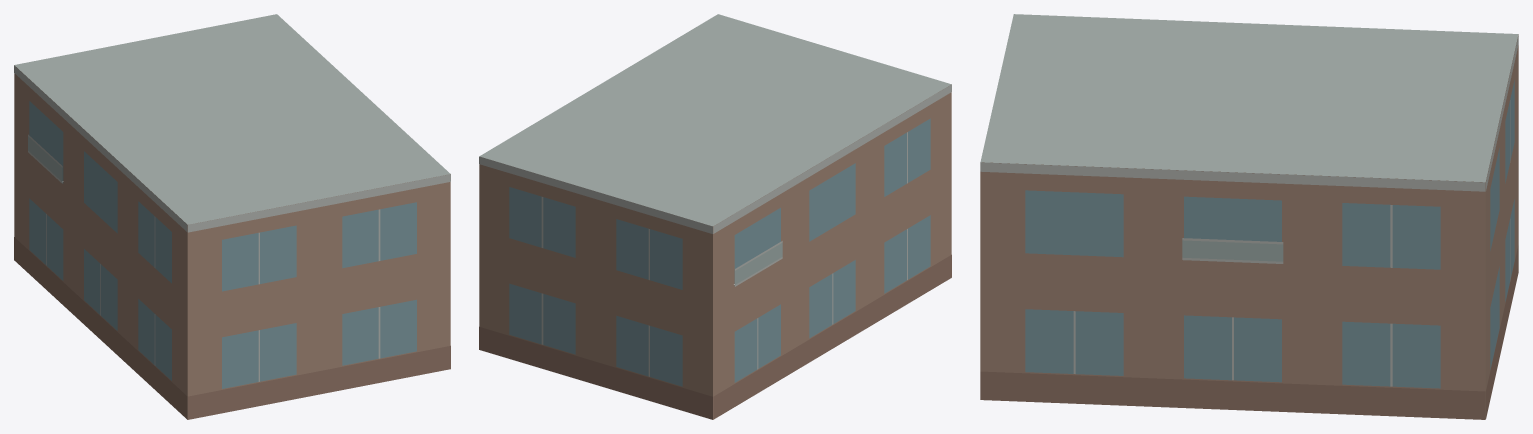
File: survey-upis-32807143.glb
The picture shows the model from 3 angles, left to right: view 1: azimuth 30°, elevation 25°; view 2: azimuth 150°, elevation 25°; view 3: azimuth 270°, elevation 25°; orthographic projection. The views are drawn at different scales.
Visible parts, largest first — view 1: survey-upis-32807143.tmp; view 2: survey-upis-32807143.tmp; view 3: survey-upis-32807143.tmp.
Part boxes in pixels (box(x1,y1,x2,y2)): survey-upis-32807143.tmp: box(14, 14, 450, 419); survey-upis-32807143.tmp: box(479, 14, 951, 419); survey-upis-32807143.tmp: box(980, 14, 1518, 419).
Size of the model in its own units: 9.27 by 6.1 by 12.53.
